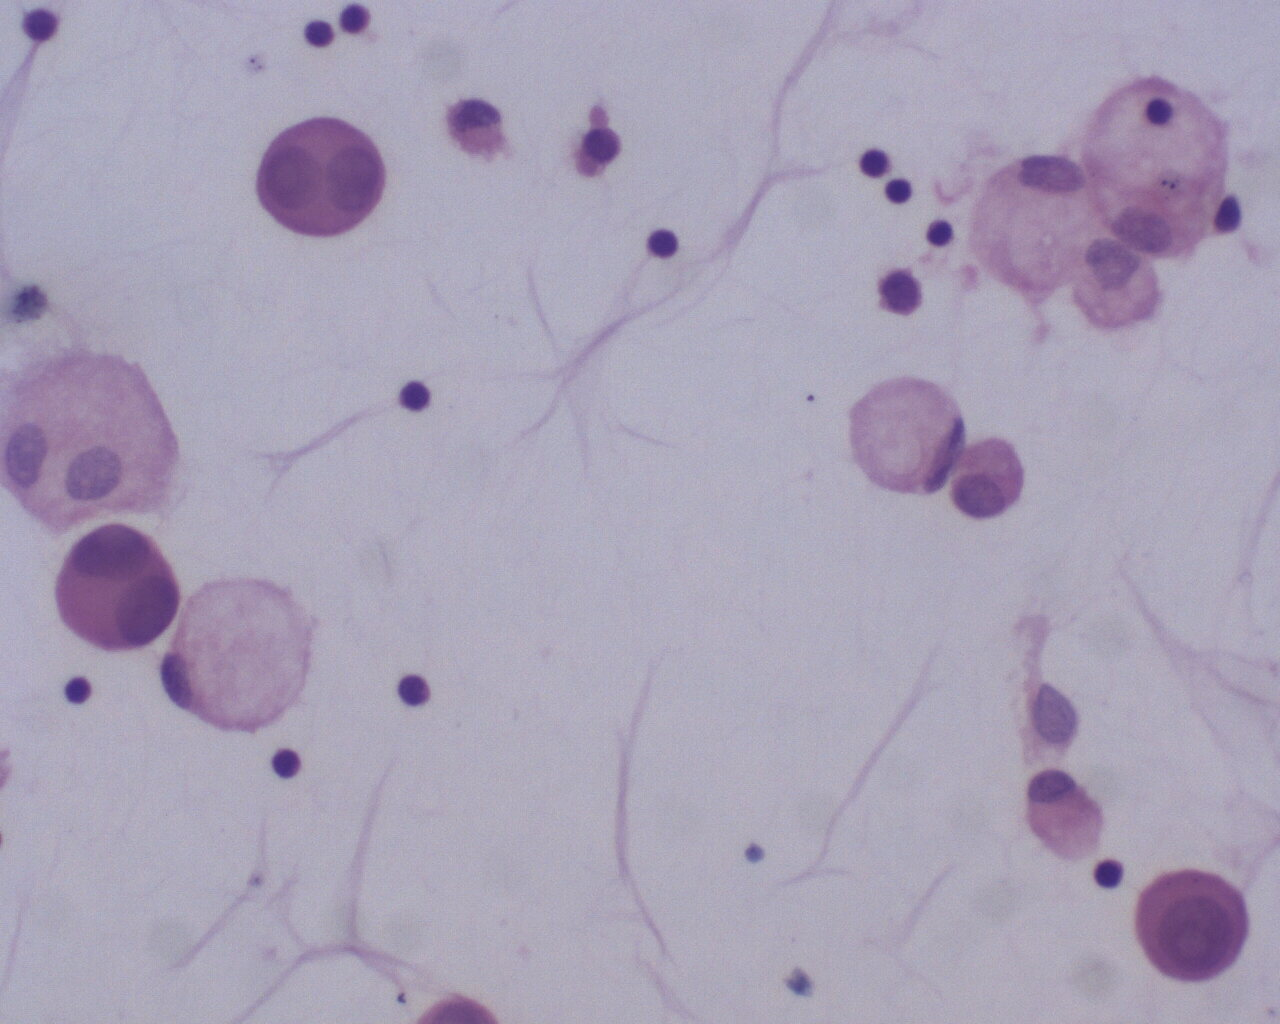ab: (43, 523, 184, 649), (255, 114, 388, 239), (1135, 865, 1250, 983)
histo: (1085, 68, 1230, 260), (156, 572, 321, 734), (967, 153, 1111, 293), (841, 372, 965, 501)
lymph: (390, 665, 434, 712), (388, 378, 435, 418), (641, 222, 683, 263), (298, 13, 340, 52), (850, 142, 891, 180), (1088, 852, 1130, 889), (57, 672, 96, 711), (923, 212, 960, 252)
